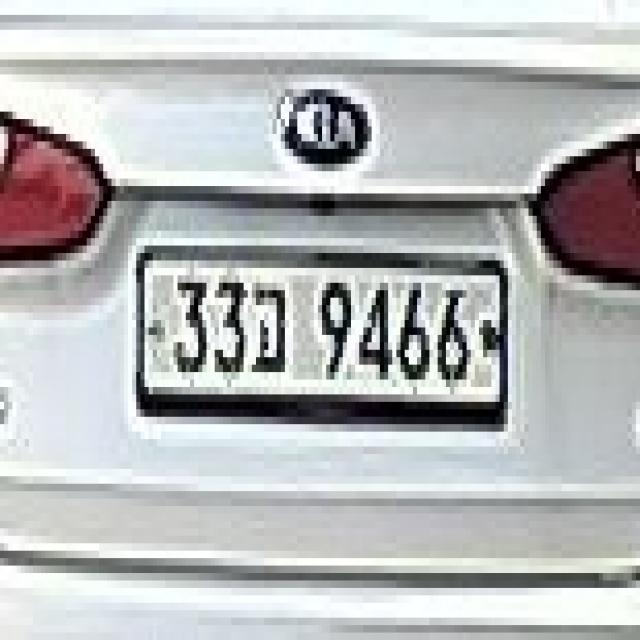3: (169, 276, 211, 380), (206, 276, 248, 380)
4: (355, 275, 396, 387)
6: (429, 283, 471, 387), (396, 275, 434, 387)
9: (318, 275, 355, 387)
go: (248, 276, 293, 380)
license_plate: (140, 253, 504, 417)
